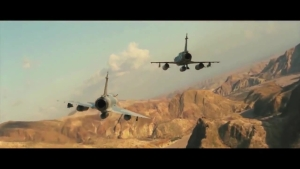flight: (59, 71, 151, 122), (150, 33, 220, 72)
